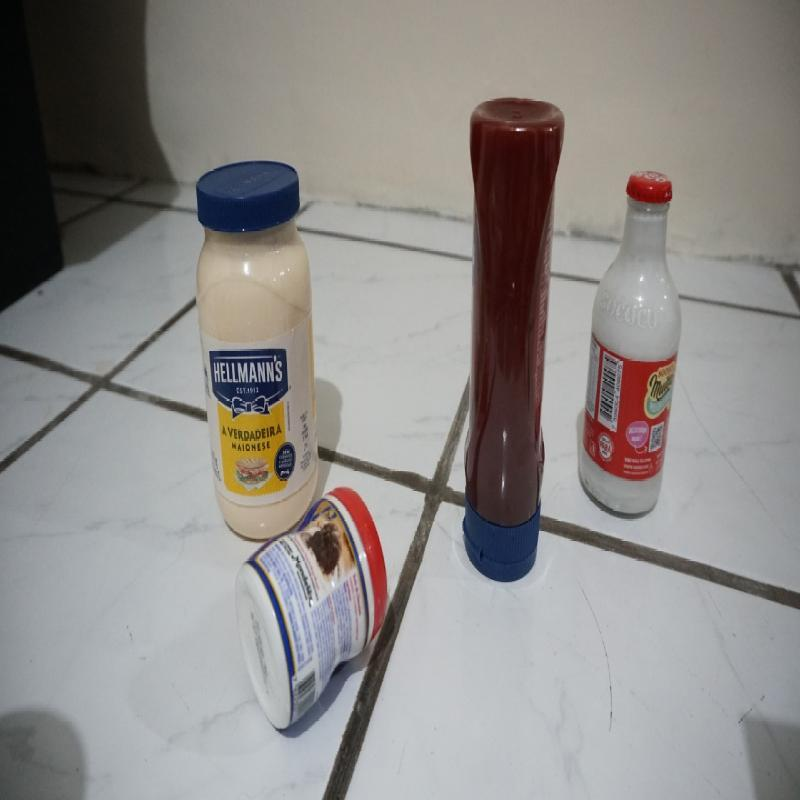Coconut Milk: (579, 164, 680, 518)
Ketchup: (463, 98, 548, 585)
Mayonnaise: (192, 151, 319, 492)
Yeast: (244, 490, 408, 738)
